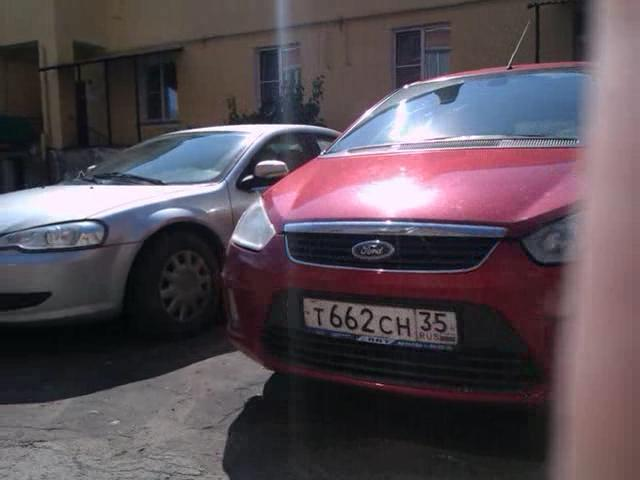car license plate: (300, 292, 461, 354)
